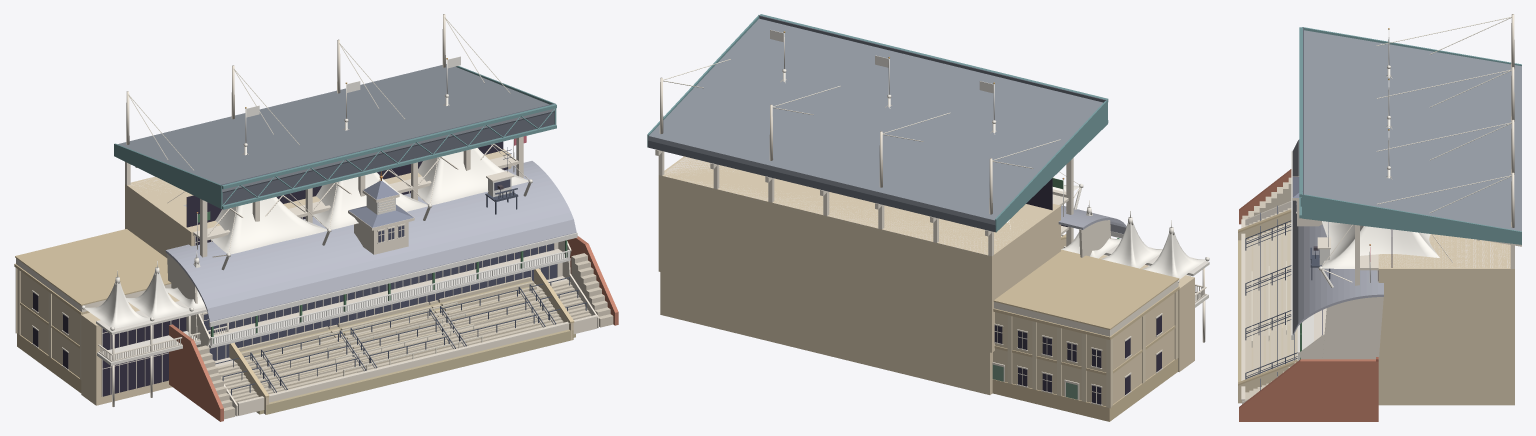
The model's file is gen-ring-l-big_stands.glb.
3 views of the same model, side by side, from view 1: azimuth 30°, elevation 25°; view 2: azimuth 150°, elevation 25°; view 3: azimuth 270°, elevation 25° (orthographic). The views are drawn at different scales.
Visible parts, largest first — view 1: gen_cupola_stand, park_tent_stand, york_stand_south, park_terrace; view 2: york_stand_south, park_tent_stand, gen_cupola_stand; view 3: york_stand_south, gen_cupola_stand, park_tent_stand, park_terrace.
Part boxes in pixels (x1,y1,x2,y2): gen_cupola_stand: [165, 136, 618, 421]; park_tent_stand: [14, 56, 574, 414]; york_stand_south: [114, 14, 575, 414]; park_terrace: [318, 302, 482, 376]; york_stand_south: [647, 14, 1108, 394]; park_tent_stand: [770, 30, 1209, 421]; gen_cupola_stand: [1052, 178, 1147, 265]; york_stand_south: [1299, 14, 1521, 405]; gen_cupola_stand: [1239, 139, 1383, 421]; park_tent_stand: [1238, 28, 1452, 403]; park_terrace: [1251, 261, 1286, 347].
Bounding box in the file's own units: 65.63 × 32.07 × 33.3.
